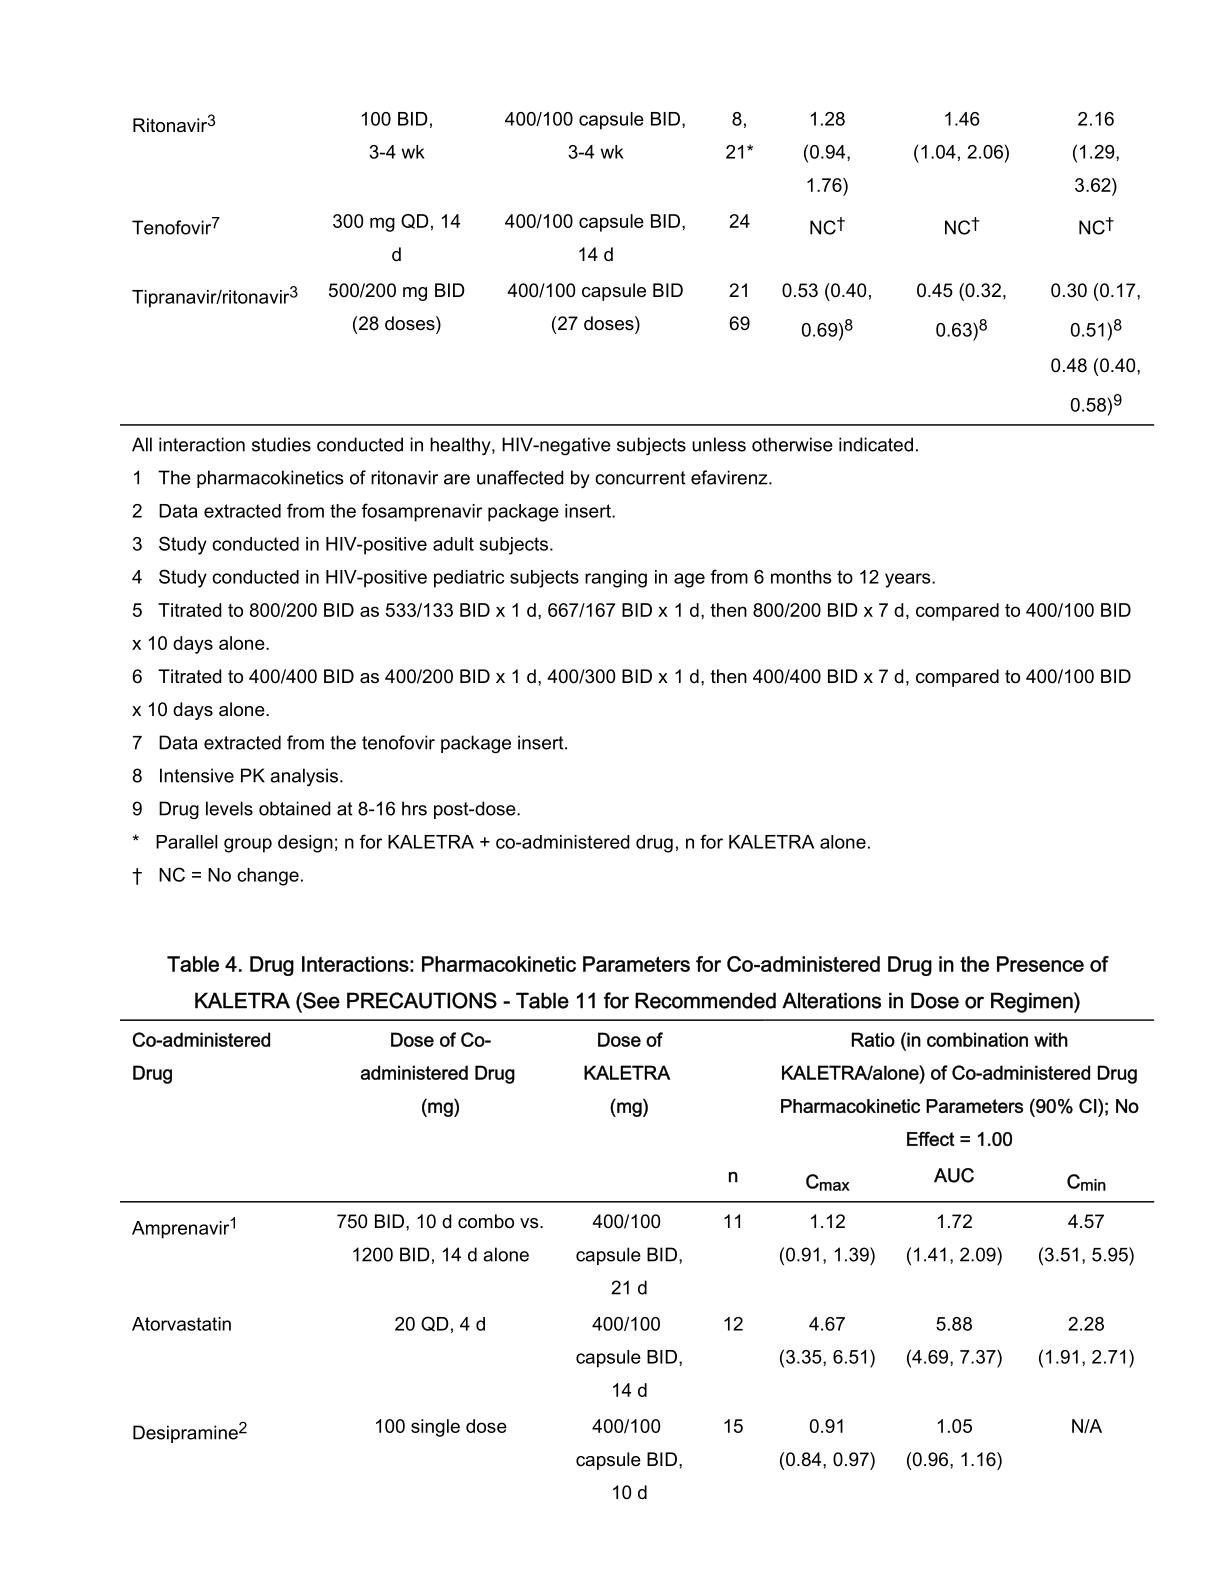nolines: (129, 109, 1147, 418)
partial_lined_merged_cells: (118, 1017, 1156, 1508)
